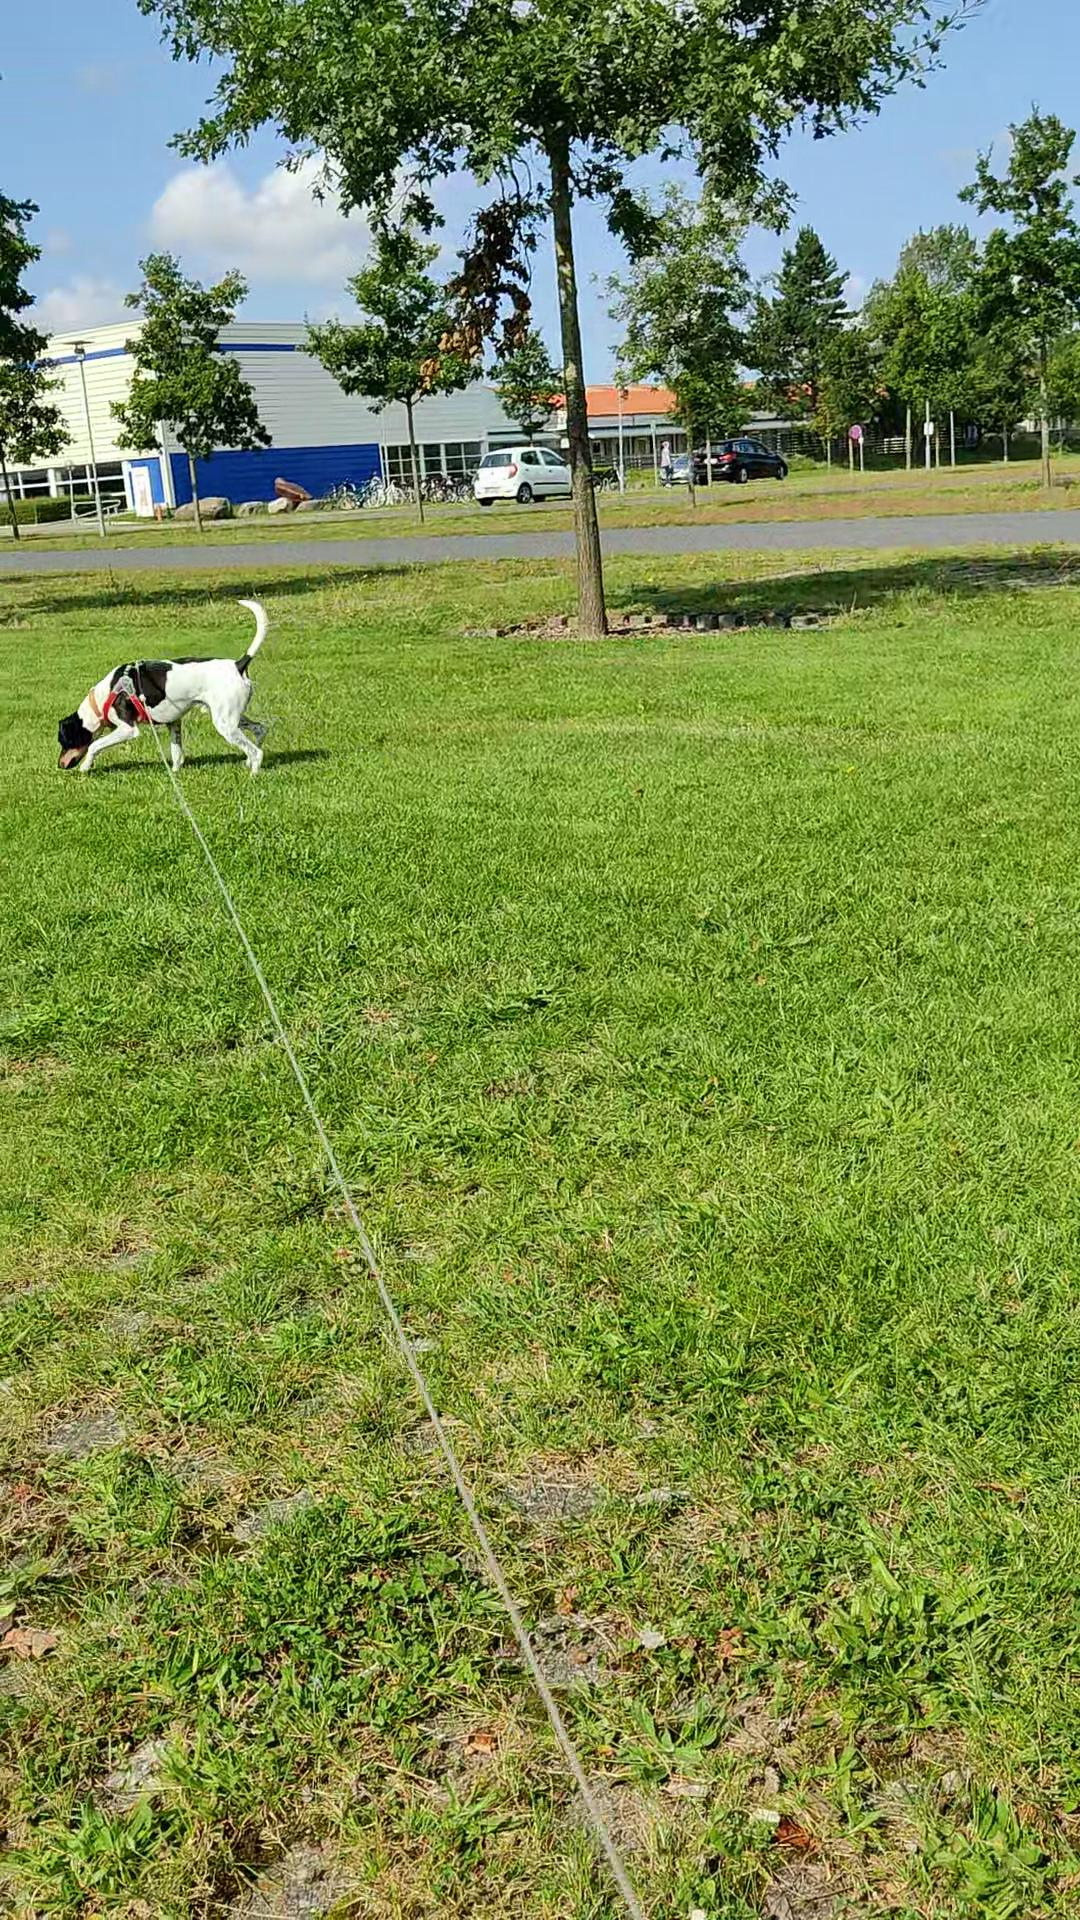Dog: (32, 589, 284, 787)
